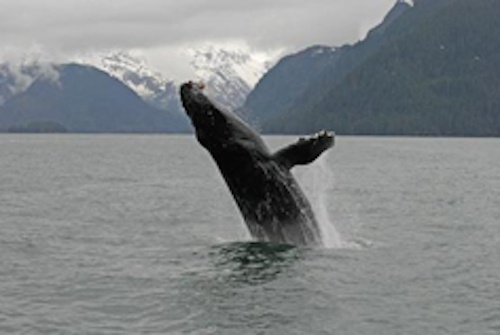humpback: (179, 82, 326, 248)
